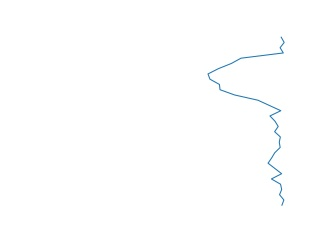distalBar: (200, 38, 296, 203)
